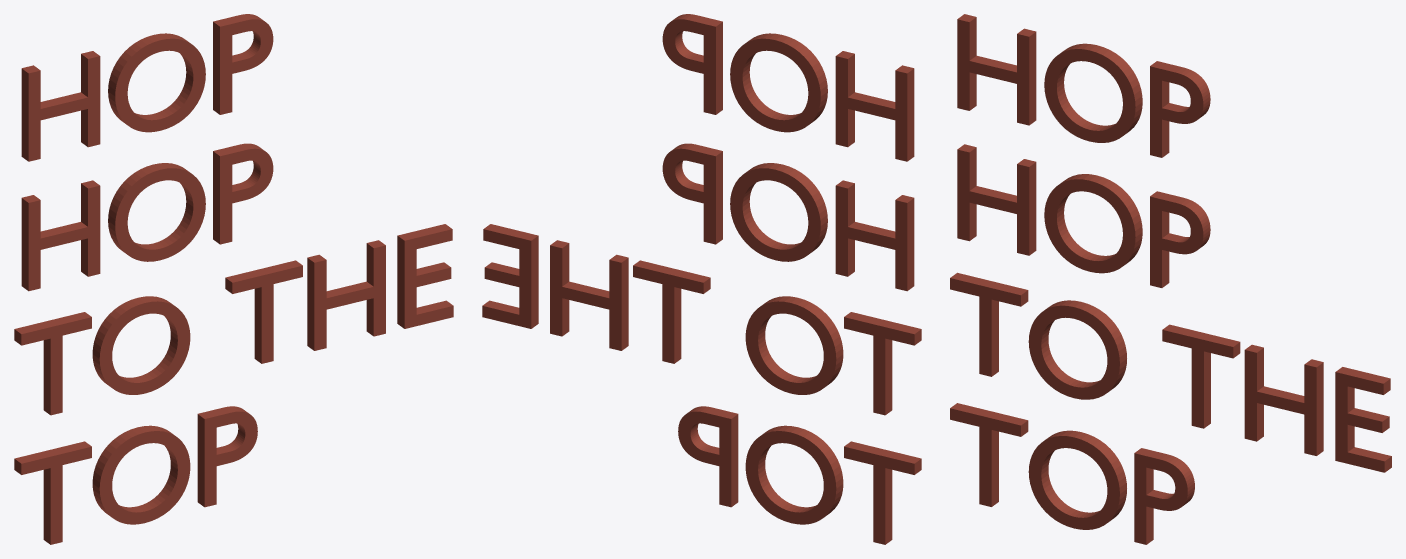
The picture shows the model from 3 angles, left to right: view 1: azimuth 30°, elevation 25°; view 2: azimuth 150°, elevation 25°; view 3: azimuth 330°, elevation 25°; orthographic projection.
Visible parts, largest first — view 1: Text.002; view 2: Text.002; view 3: Text.002.
Boxes of the visible parts, box(x1,y1,x2,y2) form: Text.002: box(14, 14, 453, 544); Text.002: box(482, 14, 921, 544); Text.002: box(950, 14, 1391, 544).
Bounding box in the file's own units: 3.49 × 3.7 × 0.1.
